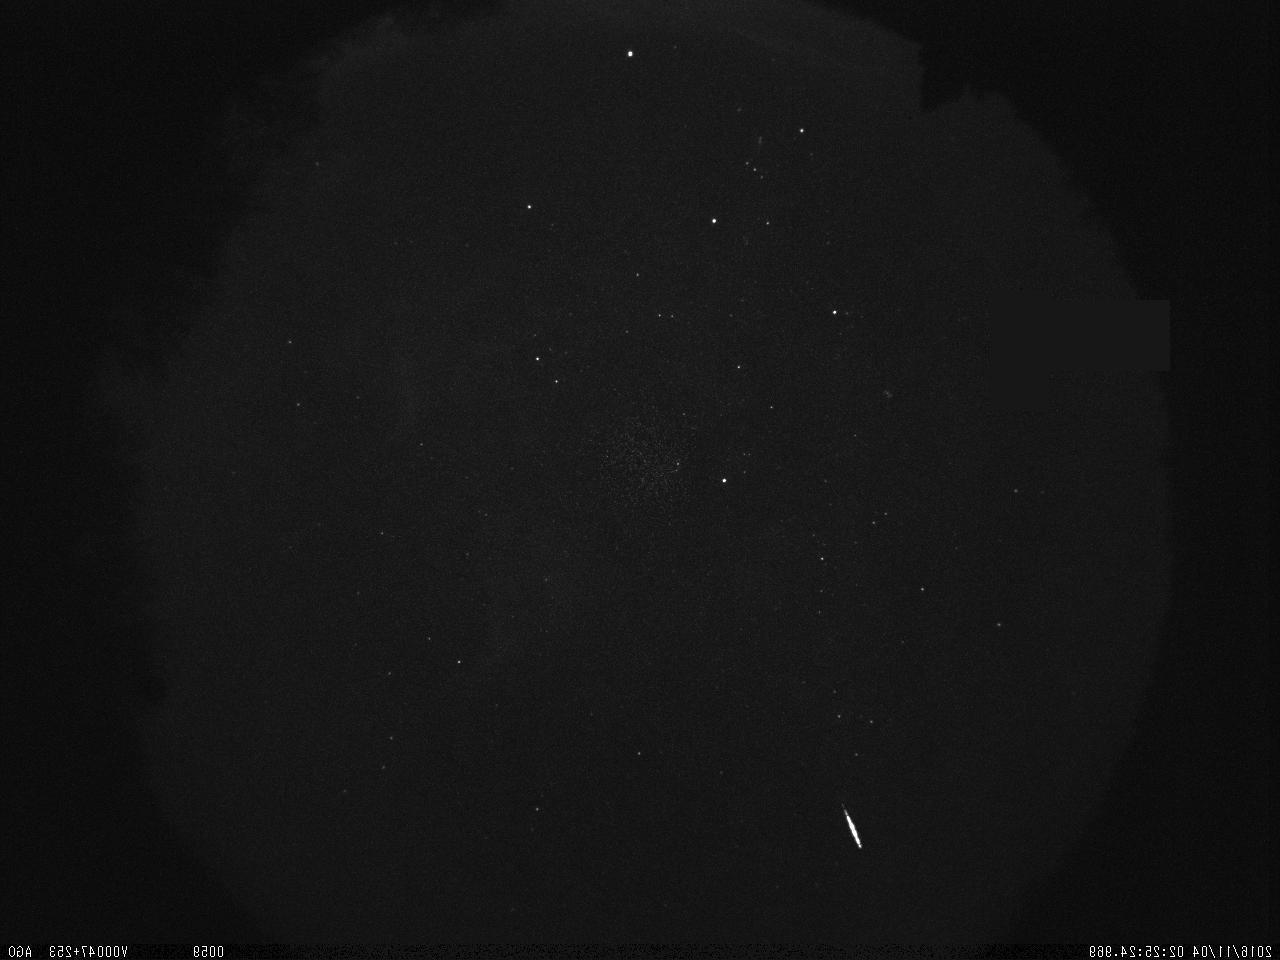meteor: (837, 796, 867, 859)
